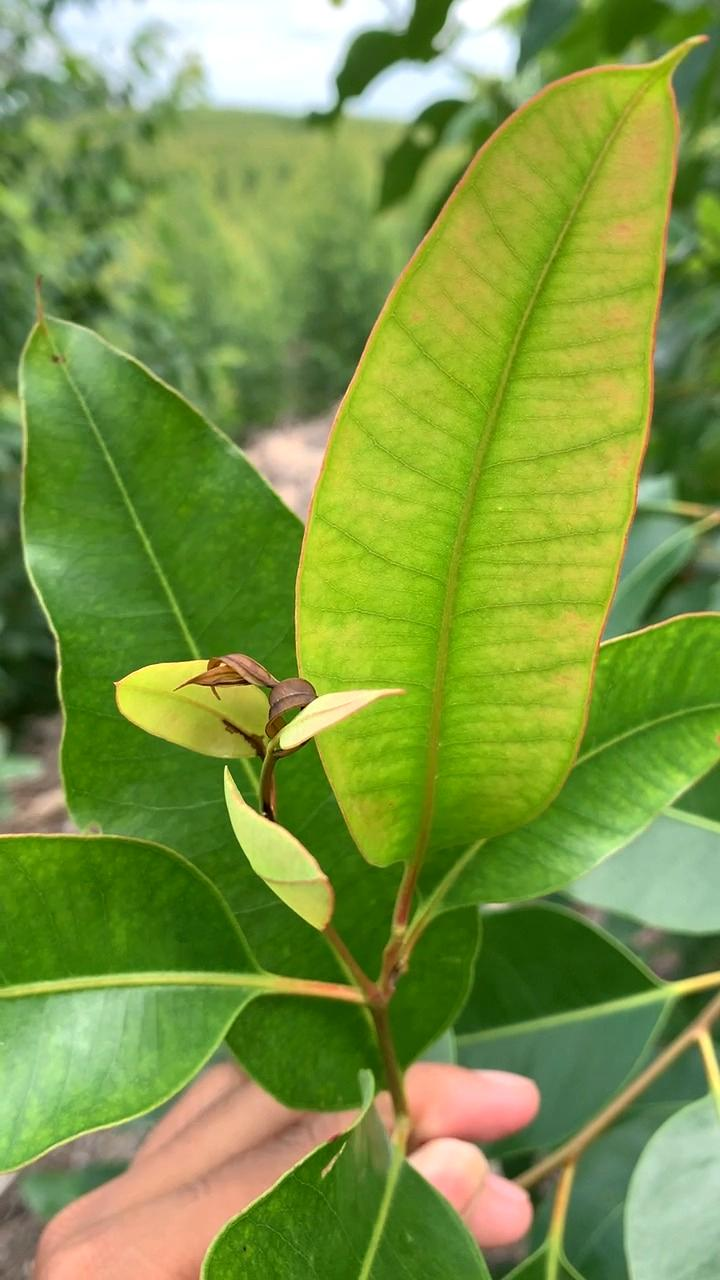Helopeltis-Withered Sprout: (182, 647, 324, 732)
